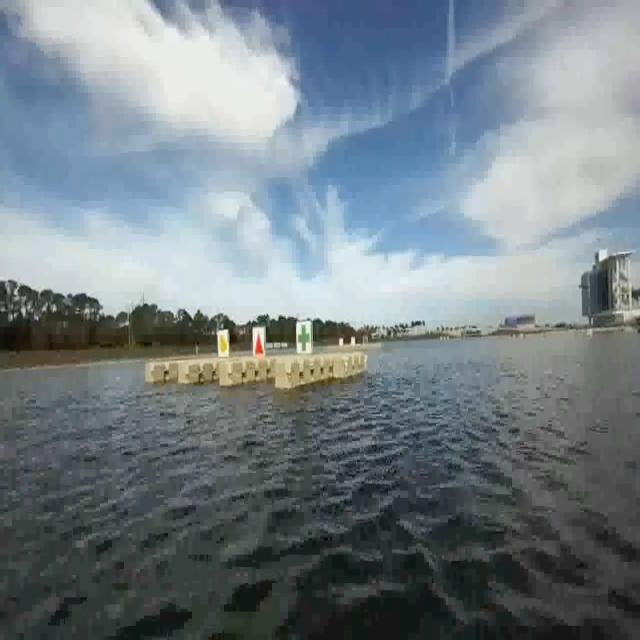blue-cross: (298, 323, 312, 356)
red-dot: (251, 327, 265, 357)
yellow-duck: (216, 328, 230, 354)
